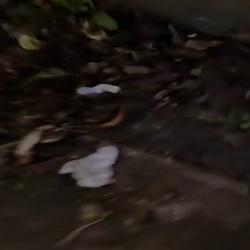Restaffald: (58, 146, 118, 188)
